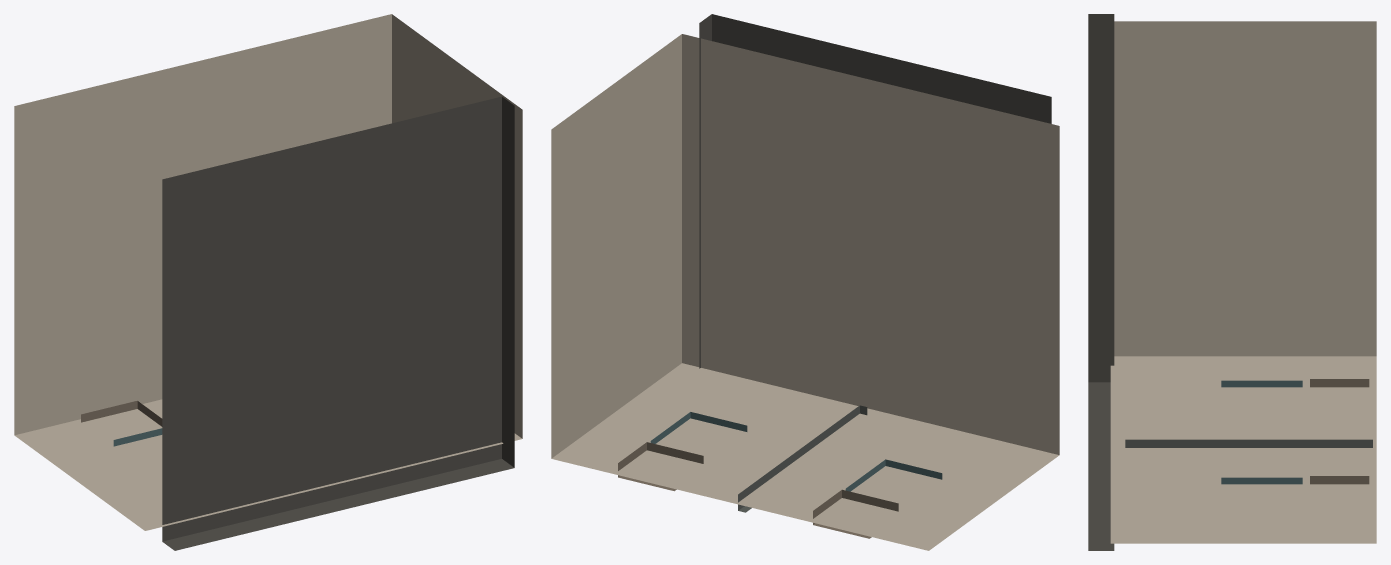
The model's file is duplex.glb.
3 views of the same model, side by side, from view 1: azimuth 30°, elevation 25°; view 2: azimuth 150°, elevation 25°; view 3: azimuth 270°, elevation 25° (orthographic).
Bounding box in the file's own units: 12 × 11 × 7.8.
